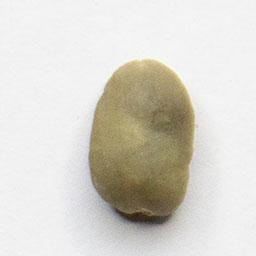peaberry: (83, 52, 199, 220)
